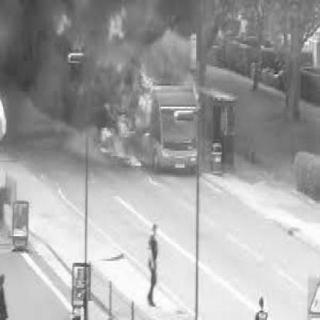Fire: (49, 5, 172, 173)
